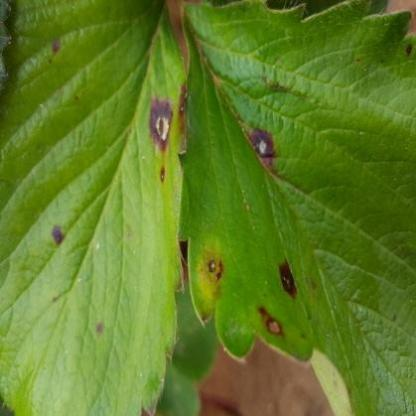Strawberry_Leaf_Spot: (177, 0, 415, 415), (0, 0, 187, 415)
